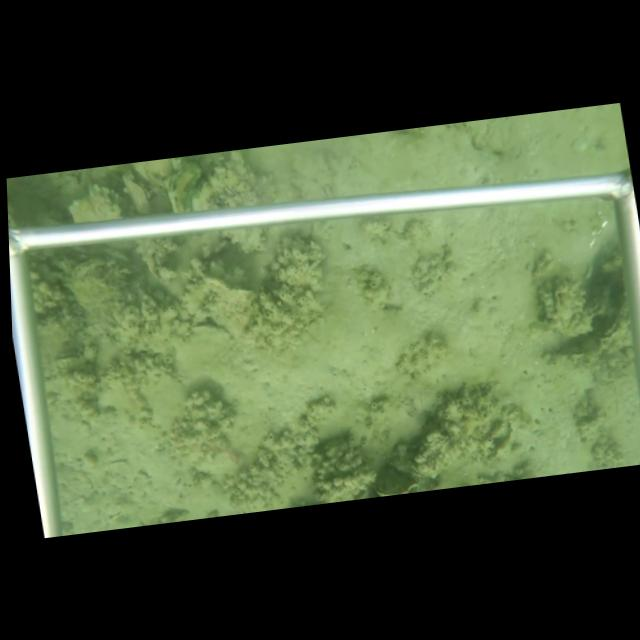Oyster-Closed: (576, 292, 630, 364), (196, 269, 259, 308), (161, 170, 184, 212)
Oyster-Indeterminate: (118, 174, 152, 213)
